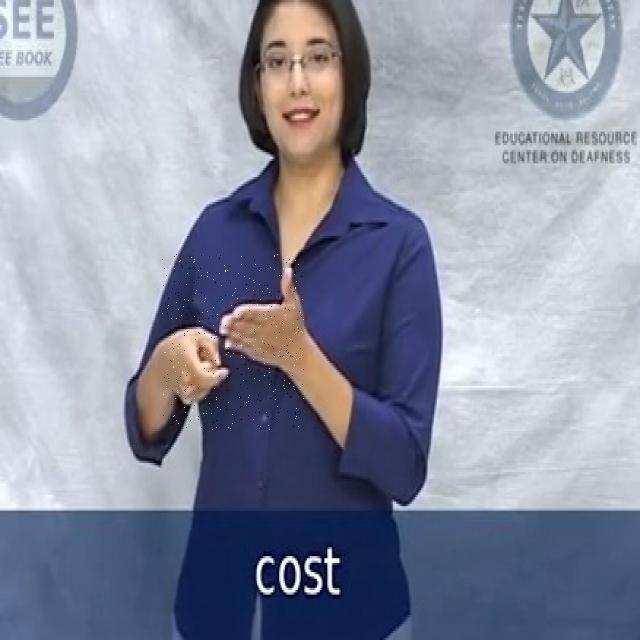cost: (162, 254, 304, 430)
